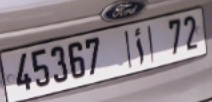2: (184, 14, 199, 51)
3: (51, 45, 68, 83)
4: (12, 52, 32, 91)
5: (31, 47, 51, 87)
6: (67, 42, 87, 78)
7: (84, 36, 100, 75), (167, 17, 182, 56)
a: (130, 26, 148, 66)
